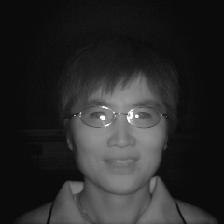happy: (51, 31, 189, 194)
